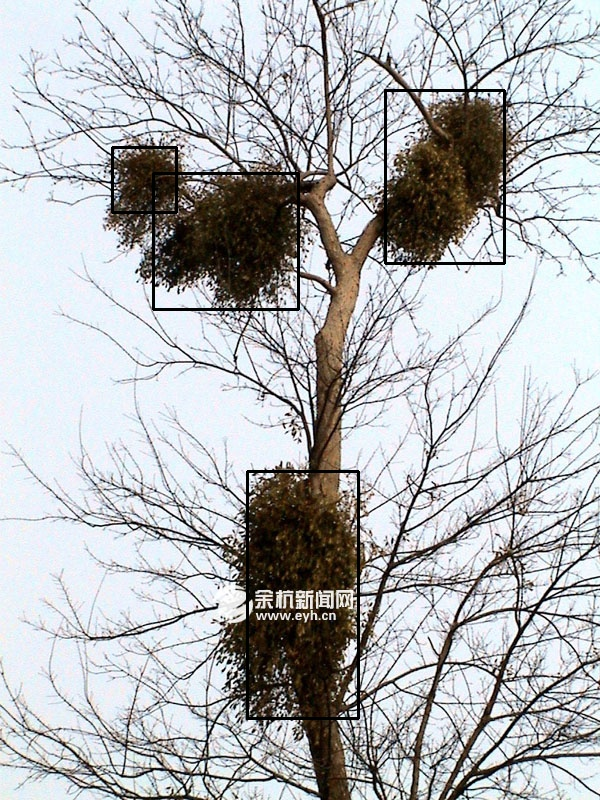bird-nest: (247, 471, 358, 718), (385, 90, 504, 263), (153, 173, 298, 309), (112, 147, 176, 212)
